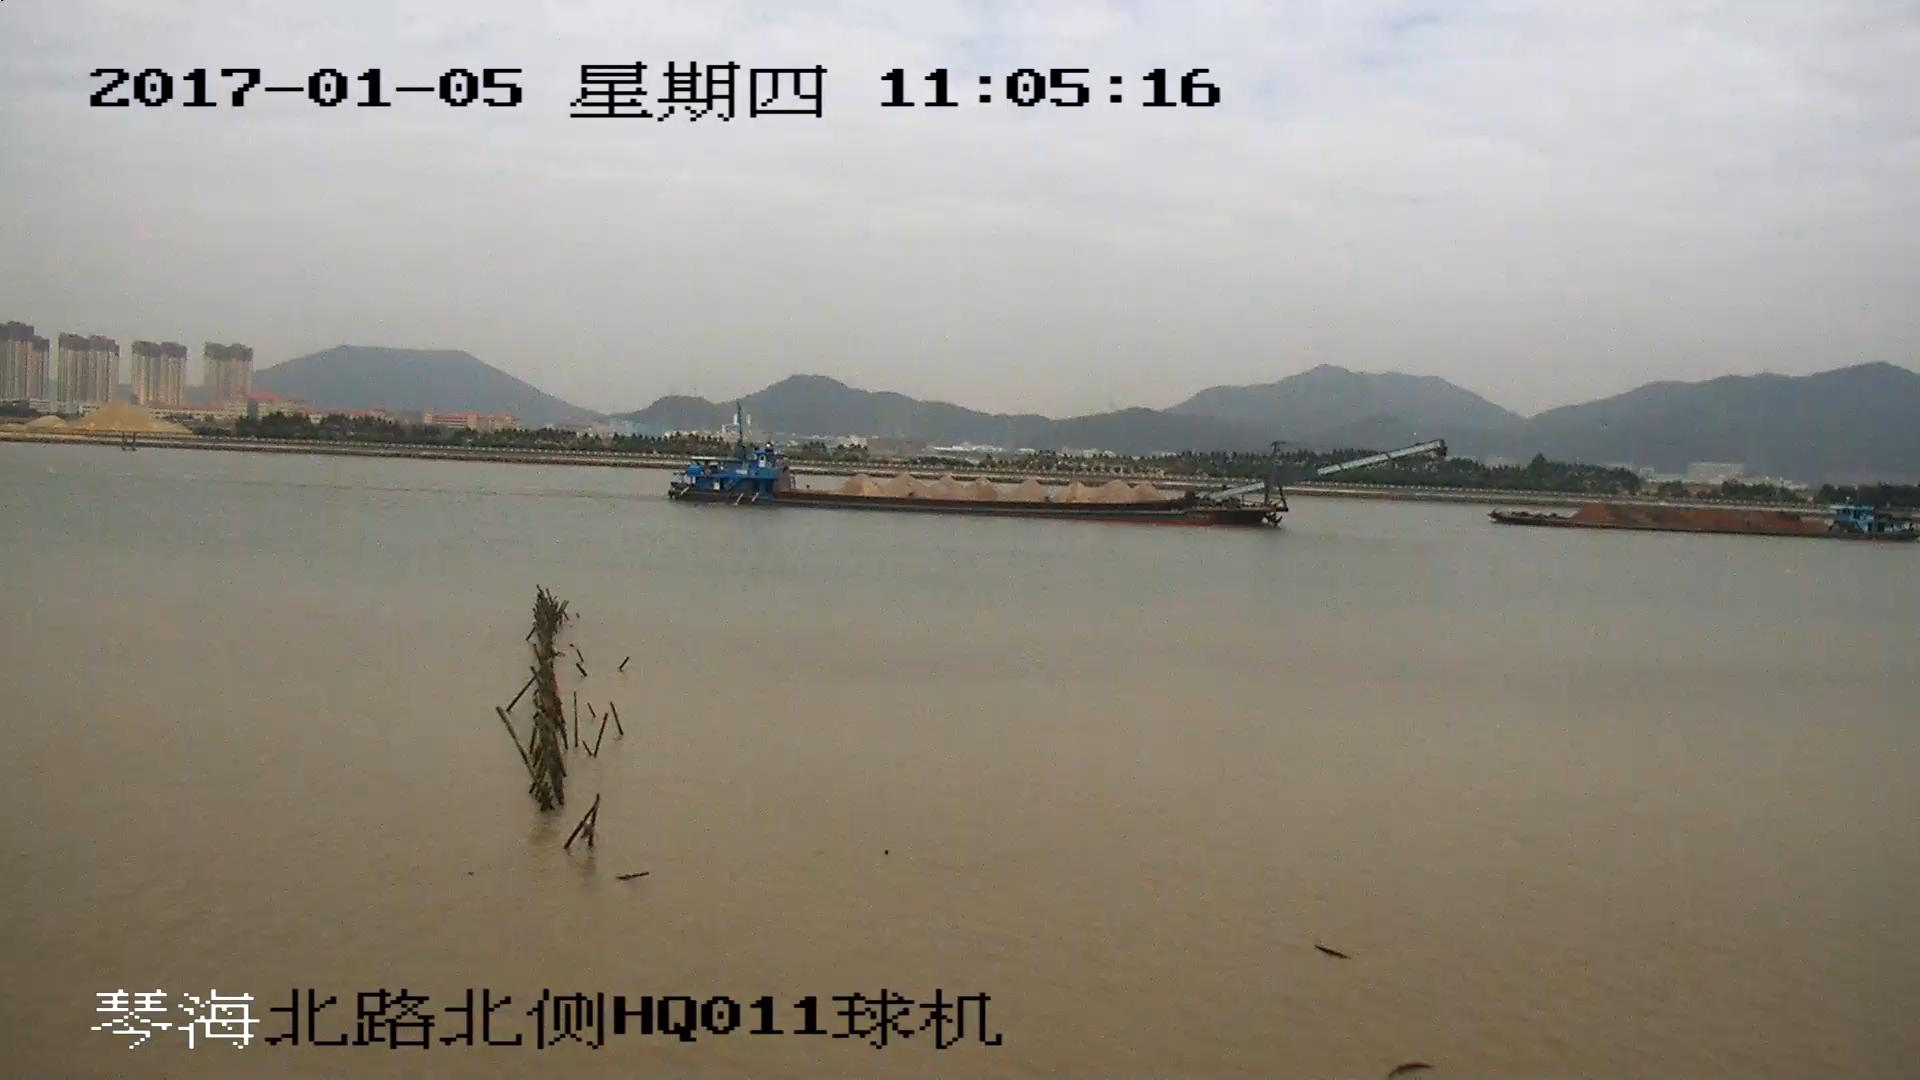ore carrier: (678, 426, 1442, 526), (1496, 498, 1920, 541)
